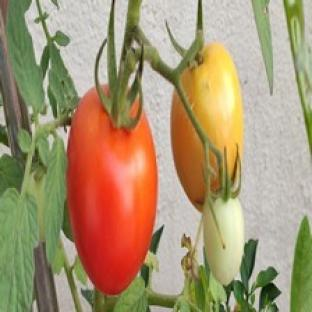Tomato: (67, 88, 157, 295), (182, 44, 243, 176), (204, 198, 243, 285)
